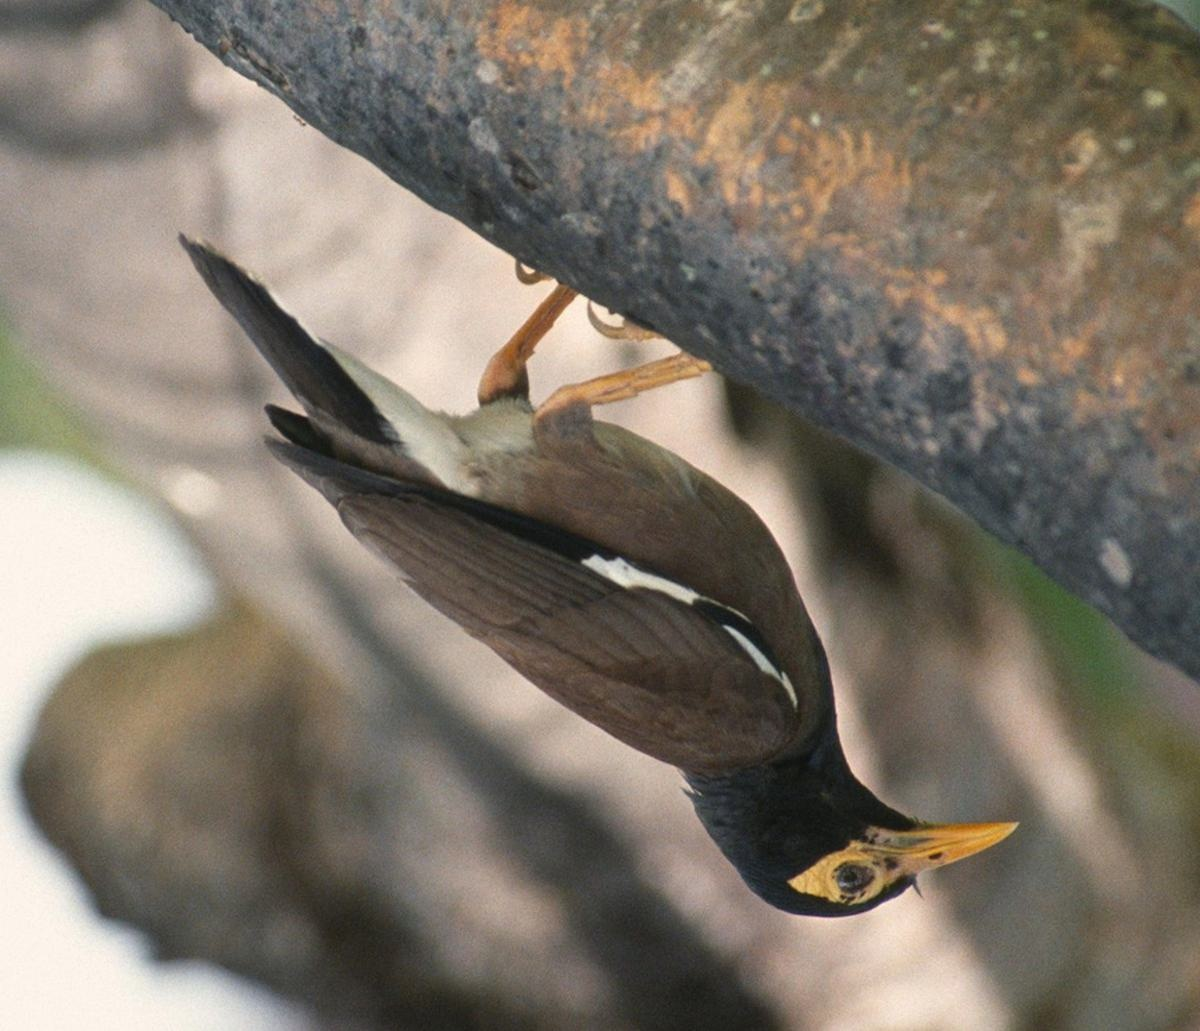myna: (197, 236, 1040, 940)
